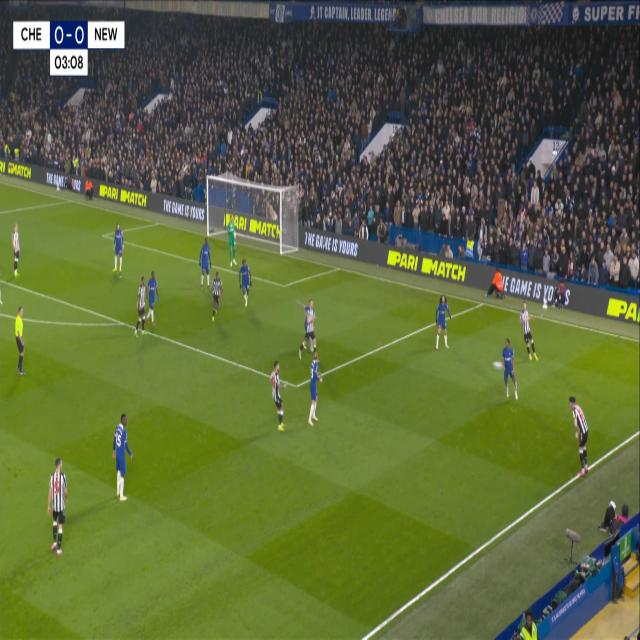Ball: (490, 356, 506, 374)
Chelsea: (110, 408, 136, 505), (305, 347, 325, 429), (502, 333, 521, 405), (432, 290, 453, 353), (112, 218, 126, 278), (240, 253, 254, 312), (198, 230, 214, 275), (147, 271, 158, 308)
New castle: (44, 453, 70, 561), (570, 390, 593, 477), (267, 356, 289, 437), (520, 298, 541, 371), (9, 218, 23, 282), (210, 269, 225, 303), (134, 277, 147, 314)
Refree: (12, 299, 28, 383)
